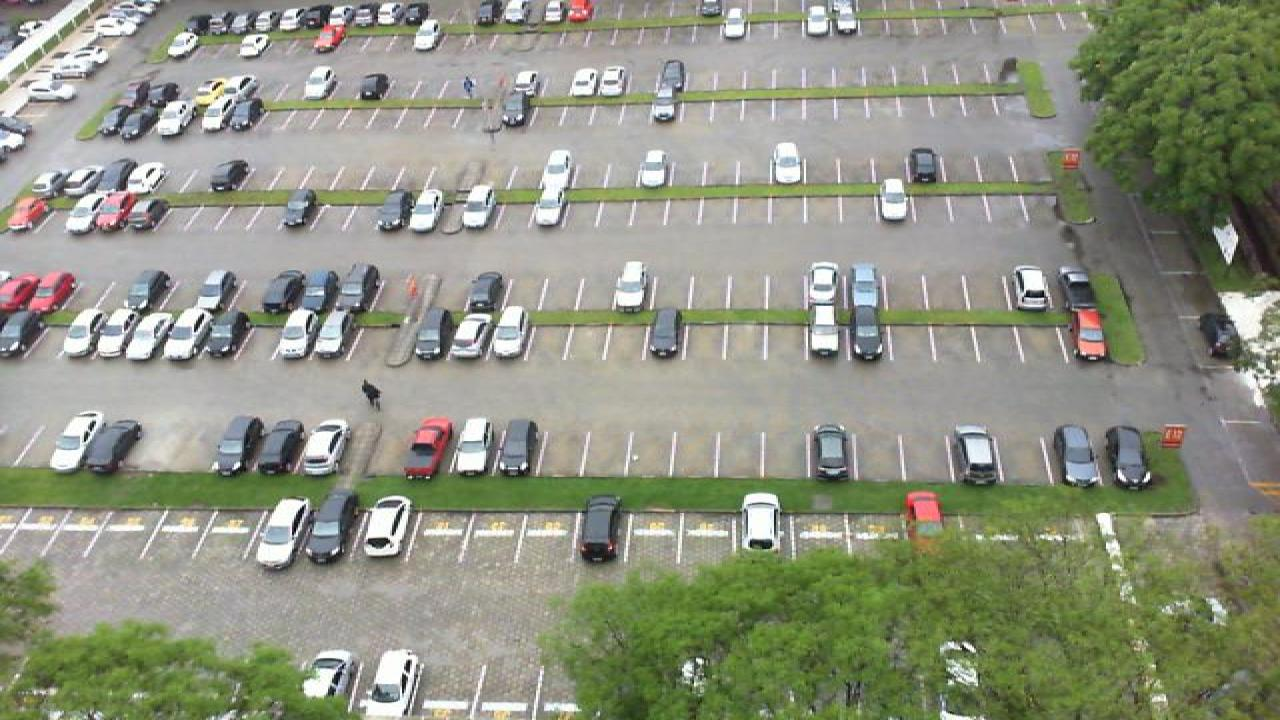Car: (306, 488, 362, 566), (362, 649, 422, 720), (254, 496, 310, 569), (360, 495, 416, 561), (48, 410, 104, 474), (574, 494, 622, 565), (212, 413, 266, 476), (400, 417, 452, 480), (1108, 424, 1156, 491), (300, 650, 360, 703), (952, 424, 1002, 487), (1054, 423, 1102, 487), (88, 420, 142, 476), (254, 420, 306, 477), (298, 420, 350, 477), (736, 492, 782, 556), (492, 416, 540, 477), (806, 424, 854, 485), (52, 308, 104, 362), (196, 308, 250, 360), (160, 306, 210, 360), (270, 308, 320, 361), (452, 417, 496, 477), (92, 307, 142, 359), (124, 307, 172, 360), (450, 309, 498, 360), (24, 270, 78, 315), (1010, 263, 1058, 313), (904, 490, 948, 544), (1198, 313, 1246, 361), (424, 310, 468, 362), (260, 269, 308, 316), (310, 307, 352, 360), (490, 307, 532, 360), (460, 271, 508, 317), (644, 307, 686, 359), (1068, 308, 1108, 362), (612, 261, 652, 315), (0, 309, 44, 358), (848, 306, 886, 361), (804, 307, 844, 359), (124, 268, 170, 312), (342, 263, 382, 312), (196, 268, 240, 312), (90, 190, 134, 234), (298, 270, 342, 313), (60, 191, 104, 234), (4, 192, 50, 233), (802, 261, 842, 308), (528, 180, 568, 226), (126, 190, 168, 233), (1062, 266, 1100, 312), (408, 188, 446, 234), (848, 261, 884, 308), (374, 191, 414, 233), (210, 156, 256, 192), (496, 89, 536, 130), (52, 164, 100, 198), (460, 187, 496, 232), (122, 162, 168, 197), (0, 271, 36, 315), (94, 104, 138, 140), (876, 176, 910, 222), (86, 161, 130, 196), (638, 147, 674, 189), (284, 189, 322, 227), (906, 146, 942, 186), (772, 142, 806, 184), (186, 100, 226, 135), (154, 101, 192, 137), (544, 149, 576, 189), (302, 64, 336, 101), (218, 98, 254, 132), (24, 170, 66, 199), (128, 106, 166, 138), (656, 58, 688, 94), (830, 0, 860, 37), (224, 71, 256, 105), (566, 67, 600, 99), (596, 65, 628, 99), (412, 19, 444, 53), (118, 79, 154, 109), (192, 78, 228, 108), (356, 71, 392, 101), (720, 4, 750, 40), (650, 90, 680, 125), (800, 4, 830, 38), (312, 25, 346, 54), (166, 28, 198, 58), (236, 32, 272, 58), (512, 66, 542, 96), (188, 10, 220, 36), (44, 68, 90, 86), (58, 53, 104, 71), (150, 82, 180, 109), (244, 7, 276, 32), (216, 9, 246, 35), (274, 6, 304, 31), (120, 0, 164, 17), (506, 0, 534, 26), (96, 22, 136, 40), (78, 38, 120, 55), (538, 0, 566, 25), (108, 11, 148, 28), (402, 0, 428, 26), (478, 0, 504, 26), (566, 0, 592, 25), (376, 2, 402, 26), (302, 6, 330, 28), (332, 5, 358, 28), (356, 3, 382, 26), (698, 0, 724, 20)
